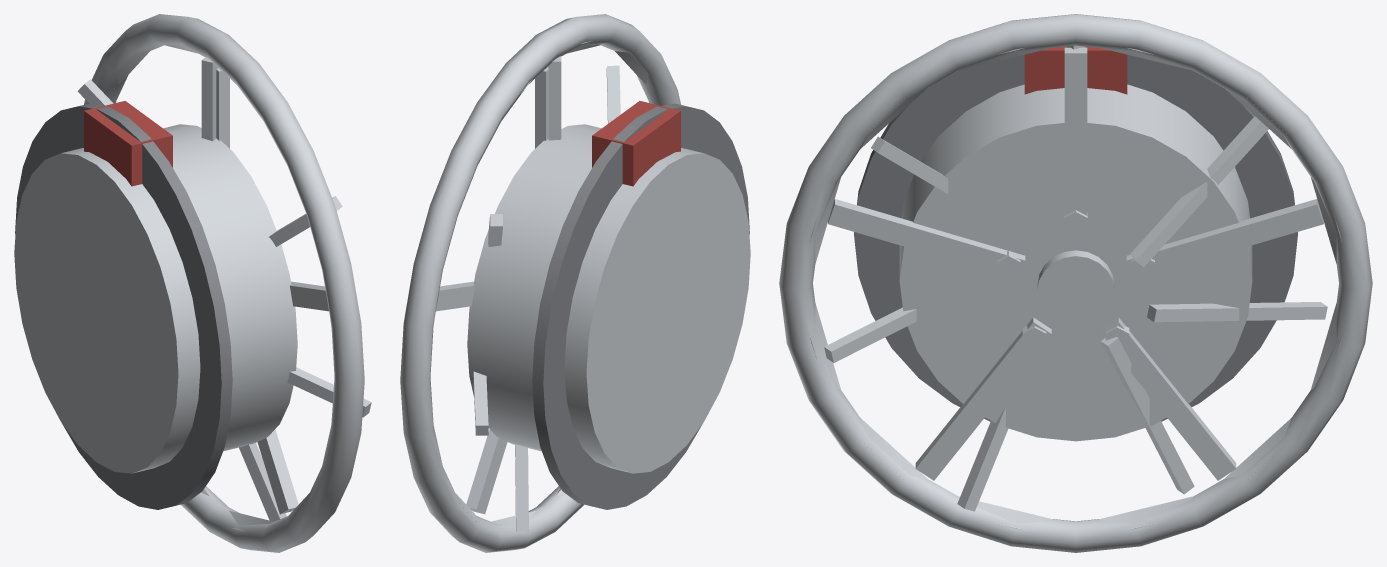
The model's file is wh-turbine.glb.
The picture shows the model from 3 angles, left to right: view 1: azimuth 30°, elevation 25°; view 2: azimuth 150°, elevation 25°; view 3: azimuth 270°, elevation 25°; orthographic projection. The views are drawn at different scales.
Visible parts, largest first — view 1: Chrome.001, Chrome.002, Rotor, Caliper, ChromeLOD.004, Chrome.008, Chrome.005, ChromeLOD, ChromeLOD.002, Chrome.007, ChromeLOD.003, Chrome.006 (+1 smaller); view 2: Chrome.001, Chrome.002, Rotor, Caliper, ChromeLOD.005, Chrome.009, Chrome.005, ChromeLOD.002, ChromeLOD.006, ChromeLOD, Chrome.010, Chrome.006 (+1 smaller); view 3: Chrome.001, Chrome.002, Rotor, ChromeLOD, ChromeLOD.003, Chrome.004, ChromeLOD.006, ChromeLOD.004, ChromeLOD.005, ChromeLOD.002, Chrome.011, Caliper (+5 smaller).
Part boxes in pixels (bbox=[...]): Chrome.001: bbox=[14, 124, 297, 473]; Chrome.002: bbox=[84, 14, 364, 552]; Rotor: bbox=[15, 103, 232, 509]; Caliper: bbox=[84, 101, 172, 186]; ChromeLOD.004: bbox=[257, 429, 298, 514]; Chrome.008: bbox=[239, 443, 286, 521]; Chrome.005: bbox=[201, 57, 217, 141]; ChromeLOD: bbox=[111, 41, 332, 531]; ChromeLOD.002: bbox=[216, 68, 229, 148]; Chrome.007: bbox=[287, 367, 371, 417]; ChromeLOD.003: bbox=[290, 281, 328, 311]; Chrome.006: bbox=[269, 196, 342, 246]; Chrome.001: bbox=[467, 124, 750, 473]; Chrome.002: bbox=[400, 14, 680, 552]; Rotor: bbox=[532, 103, 749, 509]; Caliper: bbox=[592, 101, 680, 186]; ChromeLOD.005: bbox=[466, 429, 507, 514]; Chrome.009: bbox=[515, 444, 528, 531]; Chrome.005: bbox=[548, 56, 561, 140]; ChromeLOD.002: bbox=[535, 66, 548, 148]; ChromeLOD.006: bbox=[436, 281, 475, 311]; ChromeLOD: bbox=[432, 41, 655, 529]; Chrome.010: bbox=[473, 371, 488, 435]; Chrome.006: bbox=[606, 65, 620, 123]; Chrome.001: bbox=[899, 84, 1252, 441]; Chrome.002: bbox=[779, 14, 1372, 552]; Rotor: bbox=[854, 54, 1297, 421]; ChromeLOD: bbox=[809, 48, 1342, 530]; ChromeLOD.003: bbox=[828, 199, 1025, 279]; Chrome.004: bbox=[1037, 250, 1114, 326]; ChromeLOD.006: bbox=[1126, 199, 1323, 279]; ChromeLOD.004: bbox=[915, 317, 1051, 480]; ChromeLOD.005: bbox=[1100, 317, 1236, 480]; ChromeLOD.002: bbox=[1064, 47, 1087, 234]; Chrome.011: bbox=[1130, 116, 1268, 266]; Caliper: bbox=[1024, 46, 1127, 94].
Bounding box in the file's own units: 0.1759 × 0.5216 × 0.5216.
